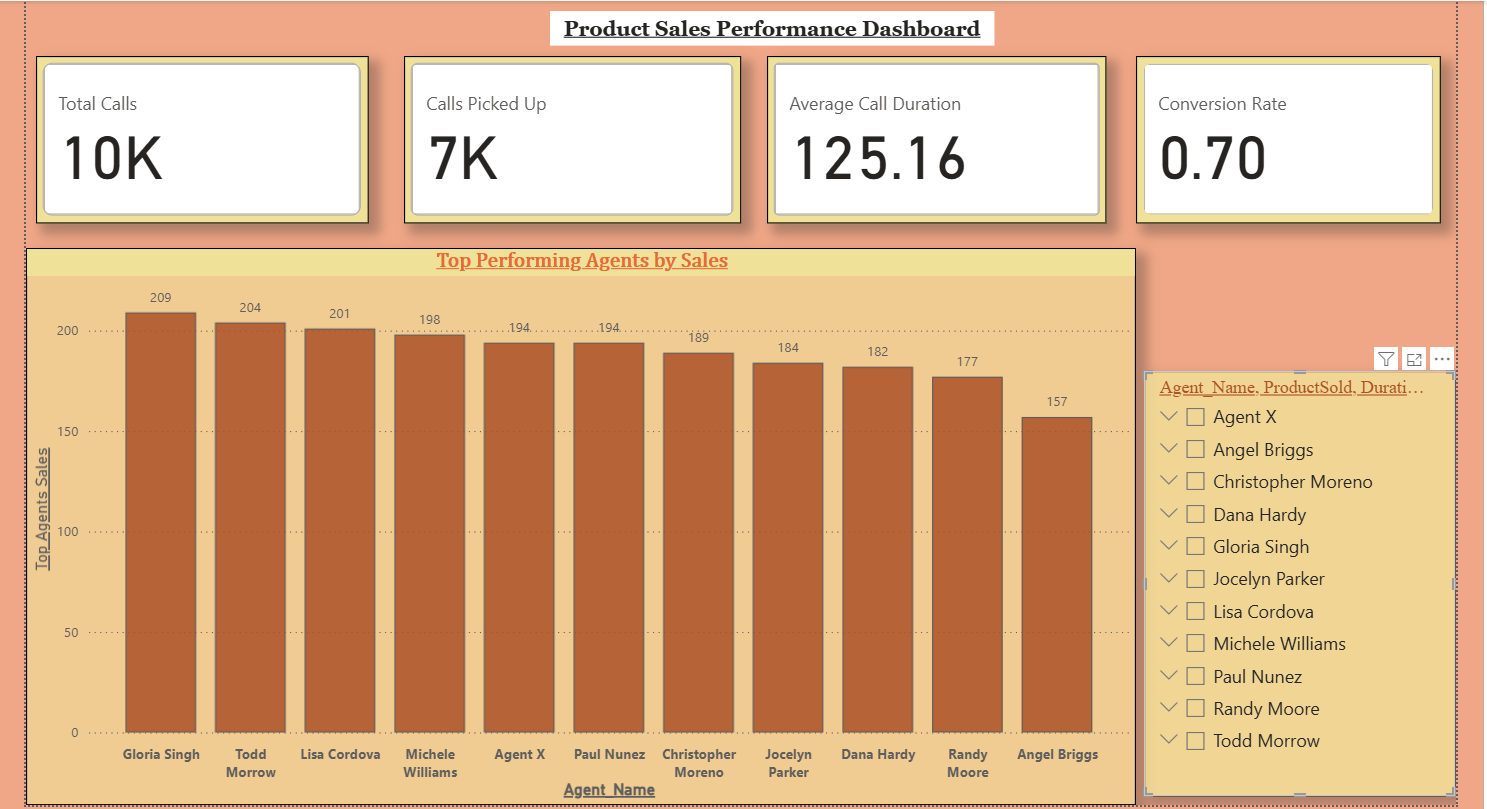

This screenshot's page, from the dashboard's own definition file:
{"tool":"powerbi","page":{"name":"Page 1","canvas":[1280,720],"ordinal":0},"visuals":[{"type":"cardVisual","fields":{"Data":["Product_Sales.Total Calls"]},"box":[8.8,49.6,297.6,149.8],"z":0},{"type":"cardVisual","fields":{"Data":["Product_Sales.Average Call Duration"]},"box":[663.3,49.6,304.4,149.8],"z":1000},{"type":"cardVisual","fields":{"Data":["Product_Sales.Calls Picked Up"]},"box":[338.5,49.6,301.5,149.8],"z":2000},{"type":"cardVisual","fields":{"Data":["Product_Sales.Conversion Rate"]},"box":[994,49.3,273.1,149.6],"z":3000},{"type":"clusteredColumnChart","title":"Top Performing Agents by Sales","fields":{"Category":["Product_Sales.Agent_Name"],"Y":["Product_Sales.Top Agents Sales"]},"box":[0,221.2,994,498.8],"z":4000},{"type":"textbox","box":[468.8,8.8,397.8,31.1],"z":5000},{"type":"slicer","fields":{"Values":["Product_Sales.Agent_Name","Product_Sales.ProductSold","Product_Sales.Duration","Product_Sales.PickedUp"]},"box":[1001.2,221.2,278.5,498.8],"z":5001}]}

Visuals, with their boxes in screenshot pixels (x1, y1, x2, y2):
cardVisual - Product_Sales.Total Calls: rect(33, 55, 363, 221)
cardVisual - Product_Sales.Average Call Duration: rect(759, 55, 1096, 221)
cardVisual - Product_Sales.Calls Picked Up: rect(398, 55, 733, 221)
cardVisual - Product_Sales.Conversion Rate: rect(1125, 55, 1428, 220)
"Top Performing Agents by Sales" clusteredColumnChart: rect(23, 245, 1125, 798)
textbox: rect(543, 10, 984, 44)
slicer - Product_Sales.Agent_Name x Product_Sales.ProductSold: rect(1133, 245, 1442, 798)
